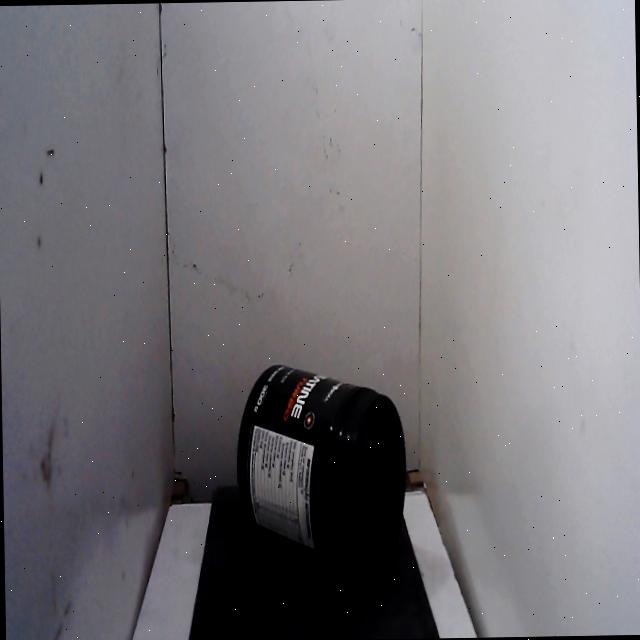plastico: (227, 352, 416, 605)
